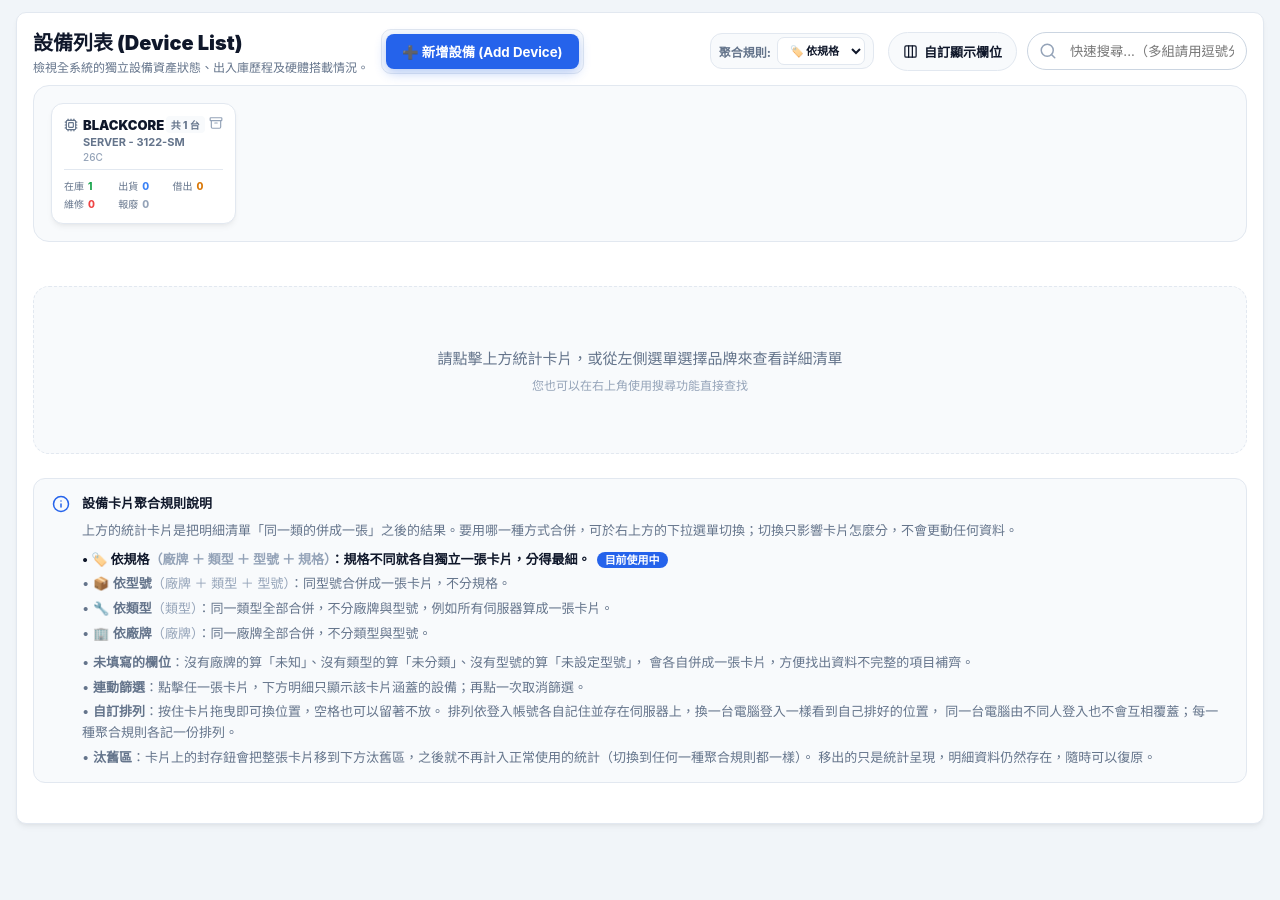
Test: 設備編輯視窗 › 一個類型一行，類型寫在最前面並標出幾個
The image size is (1280, 900).
Type "DEV-1" into the field with placeholder "快速搜尋...（多組請用逗號分隔）" at (1137, 51), box [1027,32,1247,70]
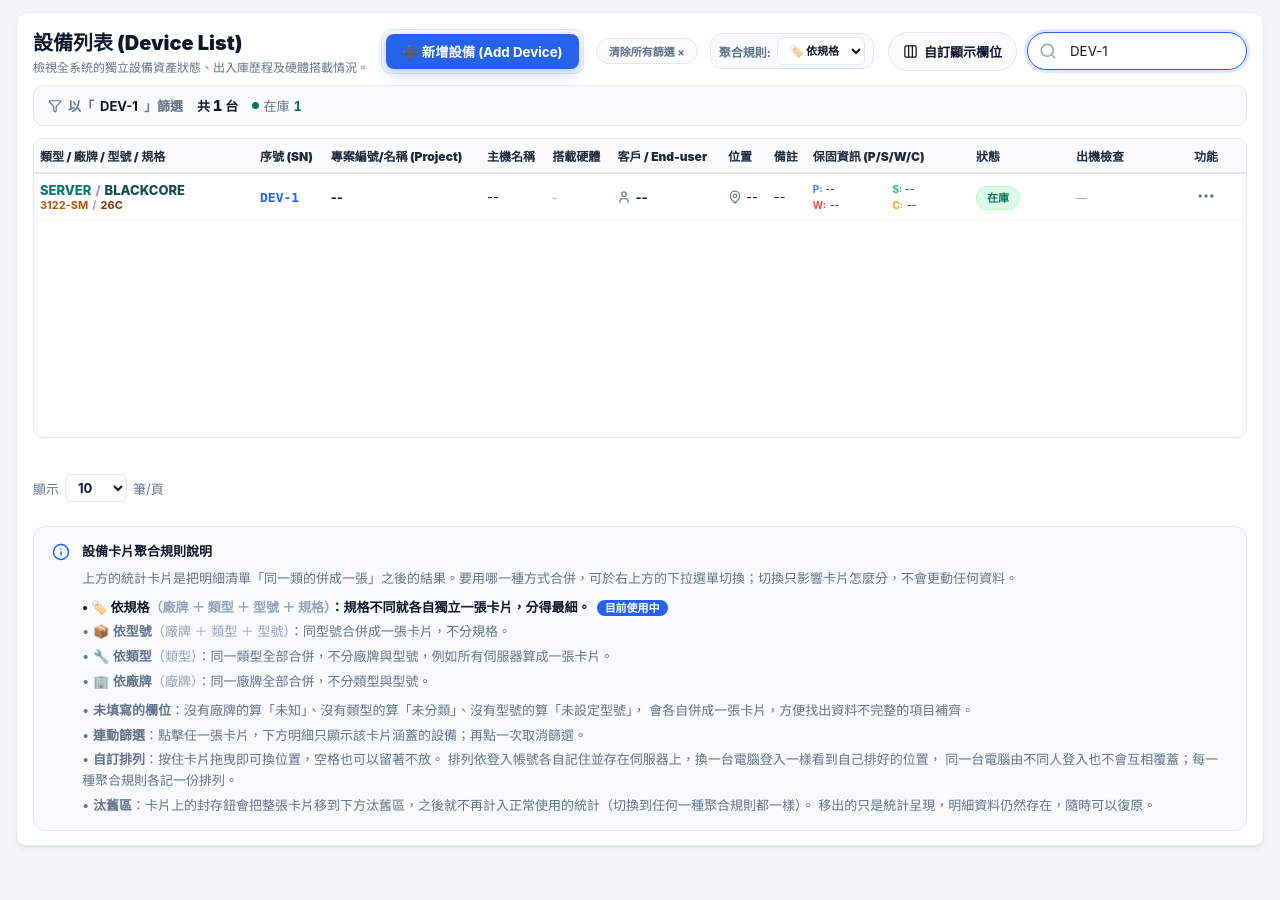
Expected: the text "DEV-1" is shown, [254,173,325,220]
Click the 4th button at (1206, 197), box [1196,186,1216,208]
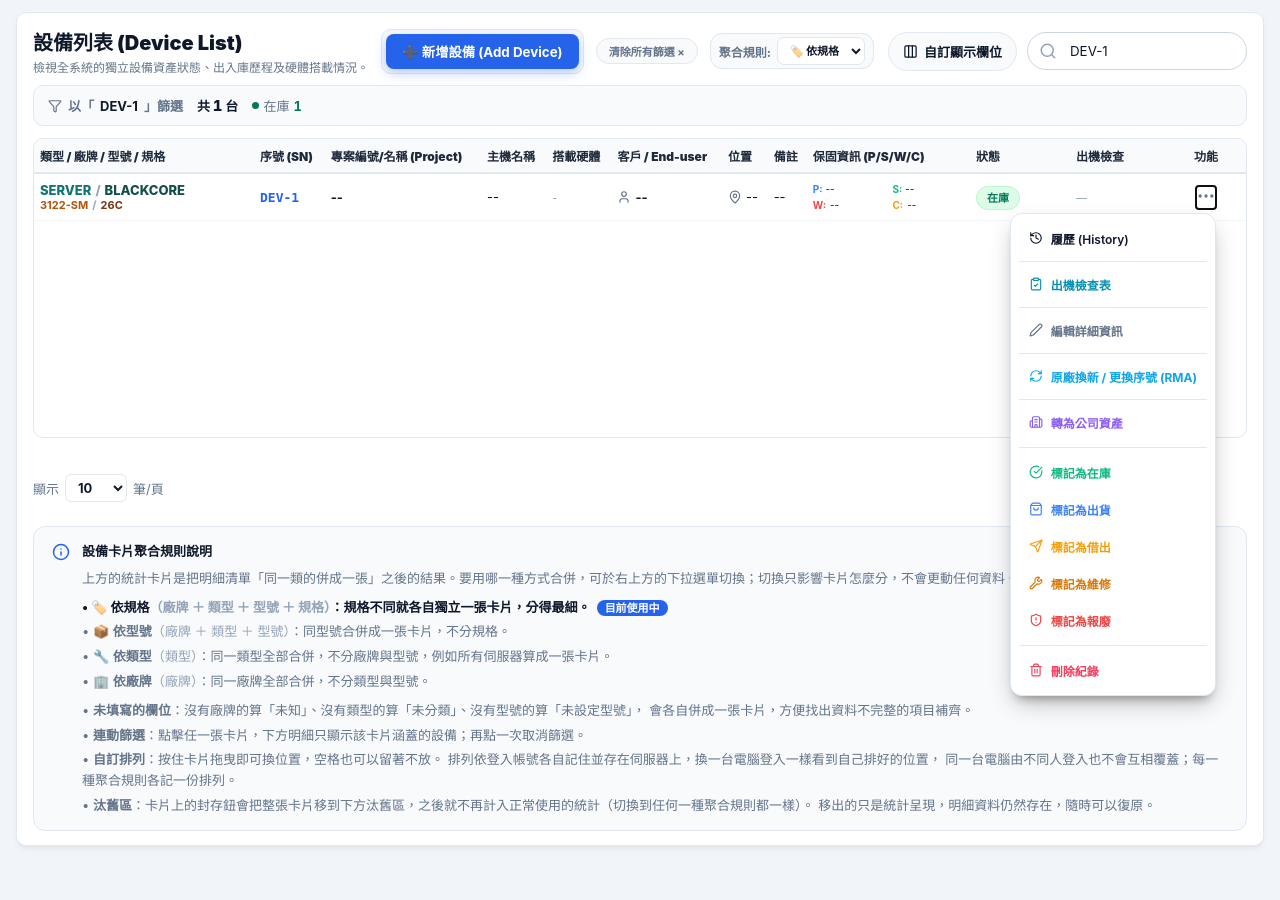
Click the button "編輯詳細資訊" at (1113, 330), box [1019,314,1207,346]
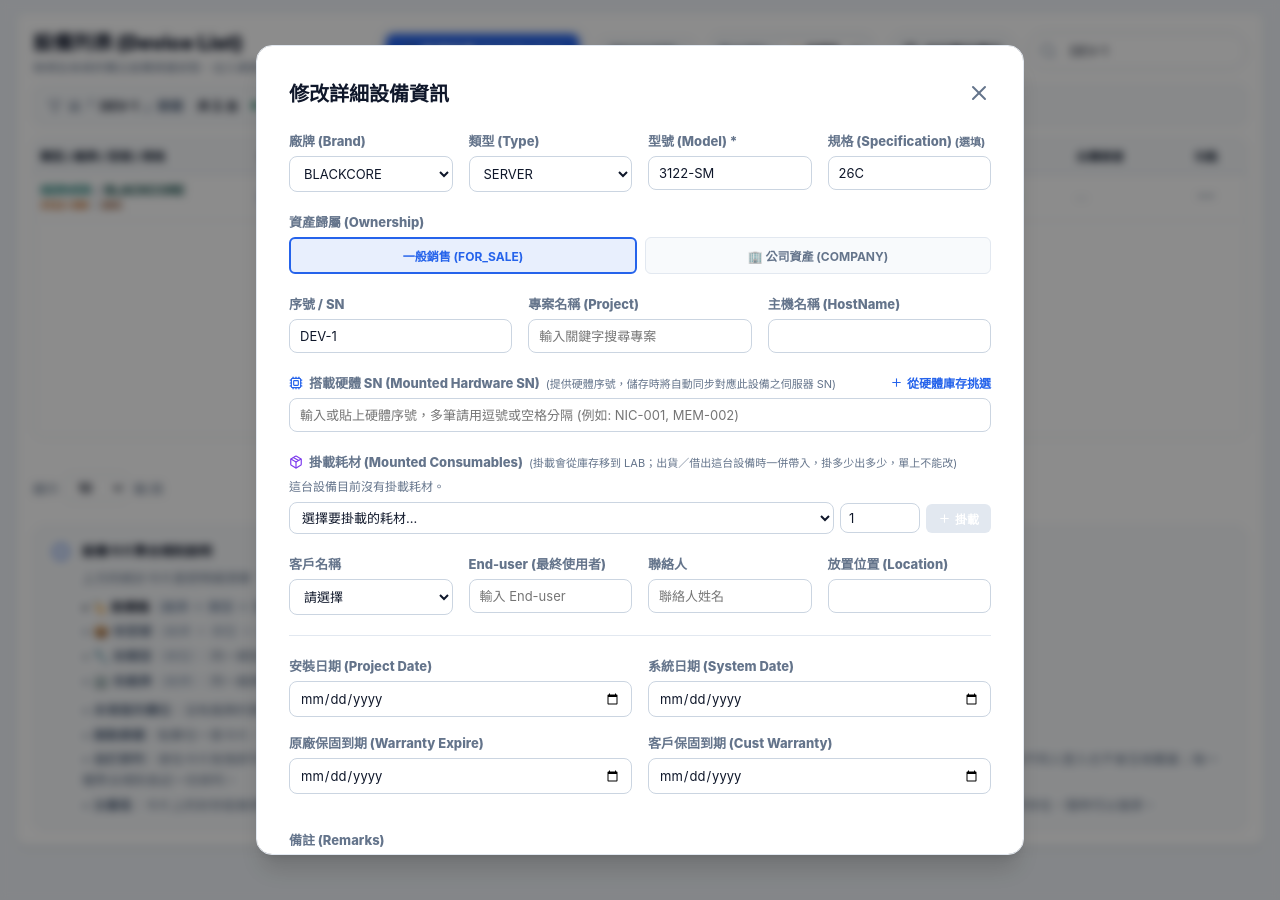
Type "RAM-2, NIC-1, CPU-1, RAM-1, NOPE-1" into the field with placeholder "輸入或貼上硬體序號，多筆請用逗號或空格分隔 (例如: NIC-001, MEM-002)" at (640, 415), box [289,398,991,432]
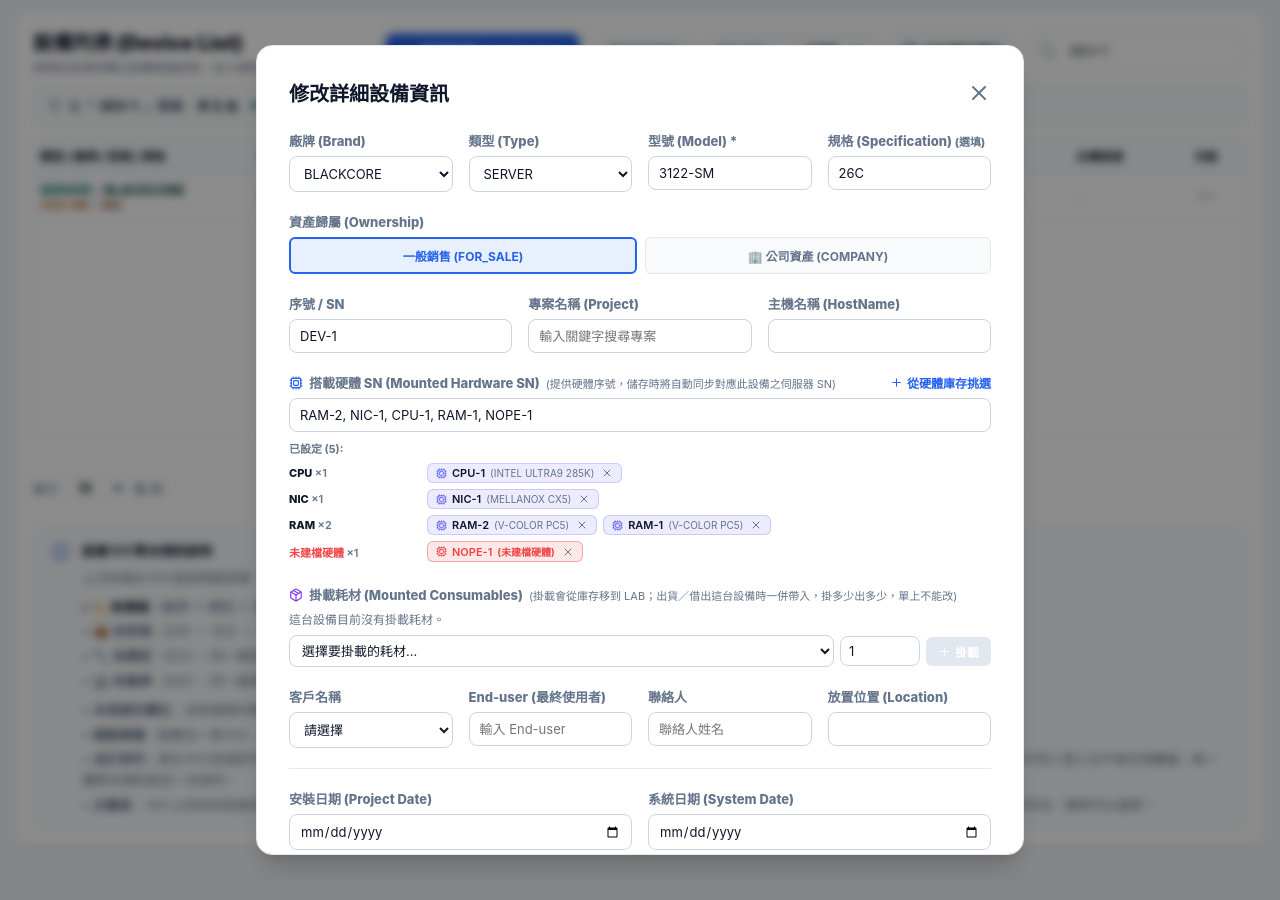
Expected: the element with test id "mounted-hw-groups" shows "已設定 (5):", [289,442,771,562]
Expected: the element showing "RAM ×2" is shown, [289,518,332,532]
Expected: the element with test id "mounted-hw-group-RAM" shows "RAM-2", [452,518,489,532]
